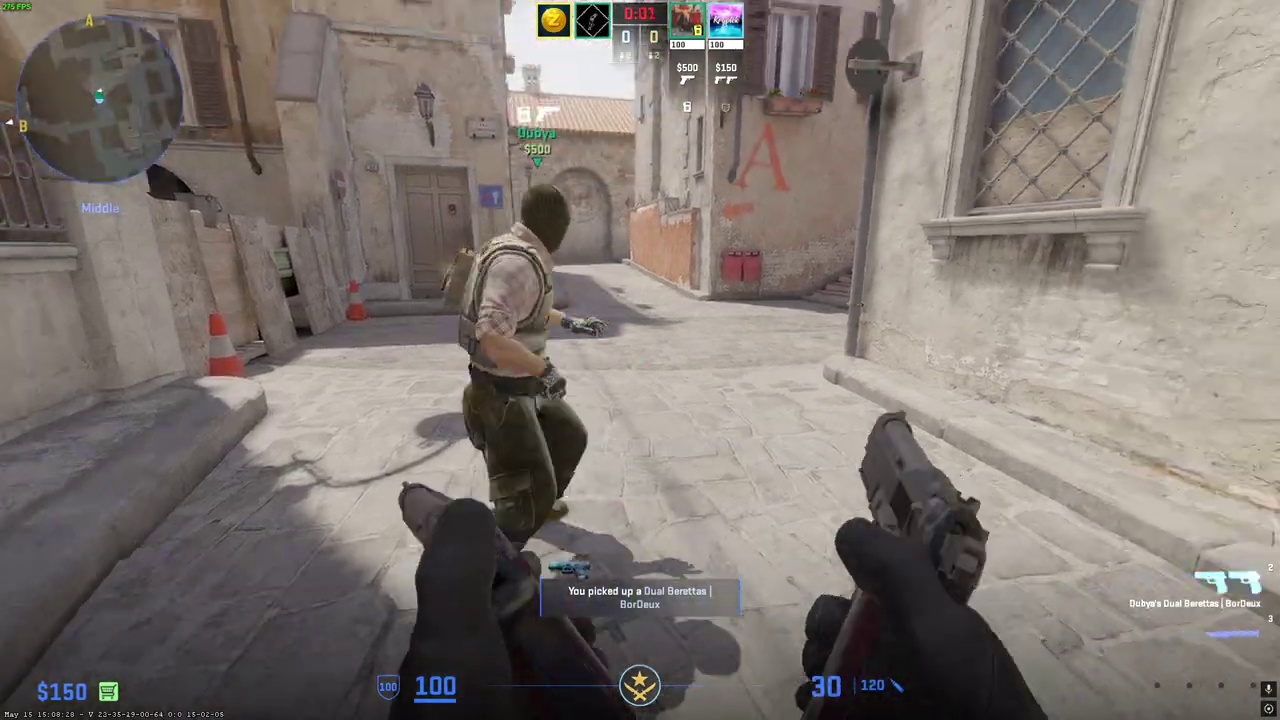Terrorist: (457, 184, 588, 580)
